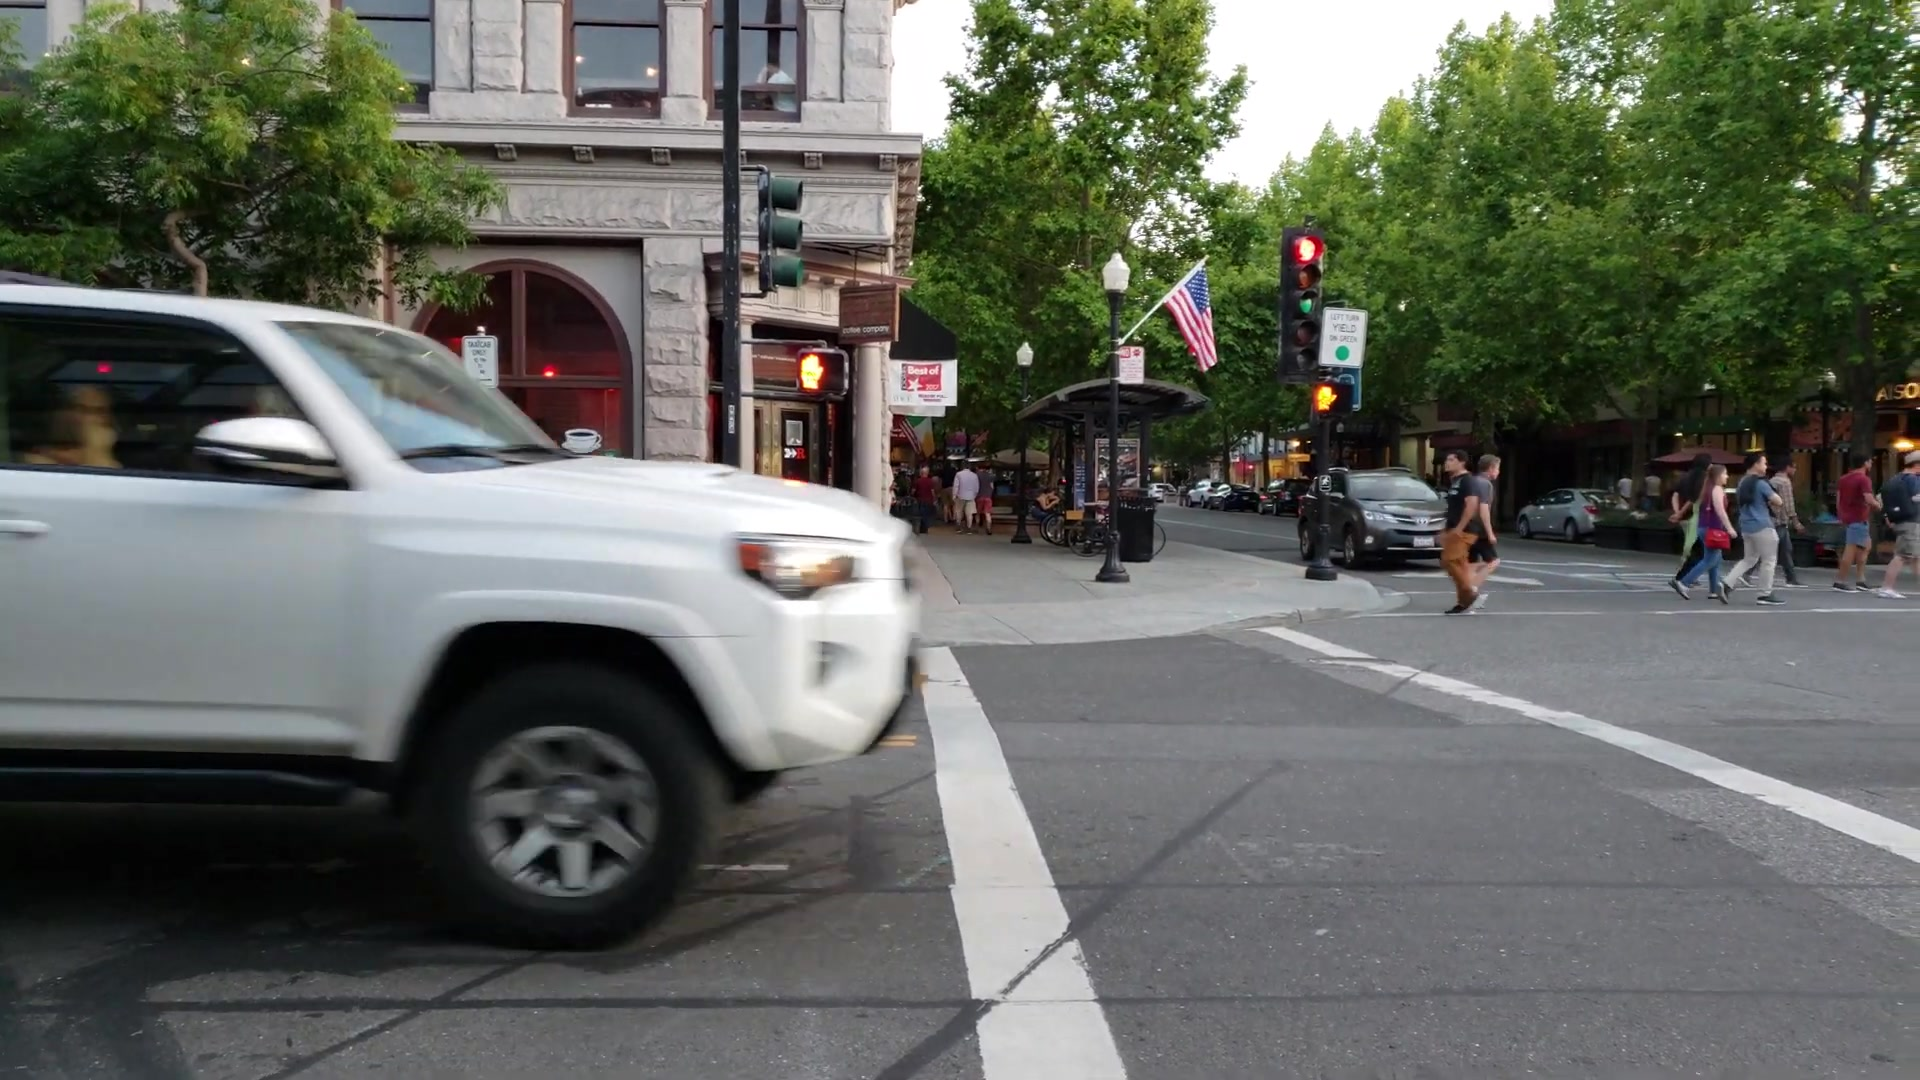vehicle: (1, 294, 913, 955), (1303, 465, 1457, 580)
